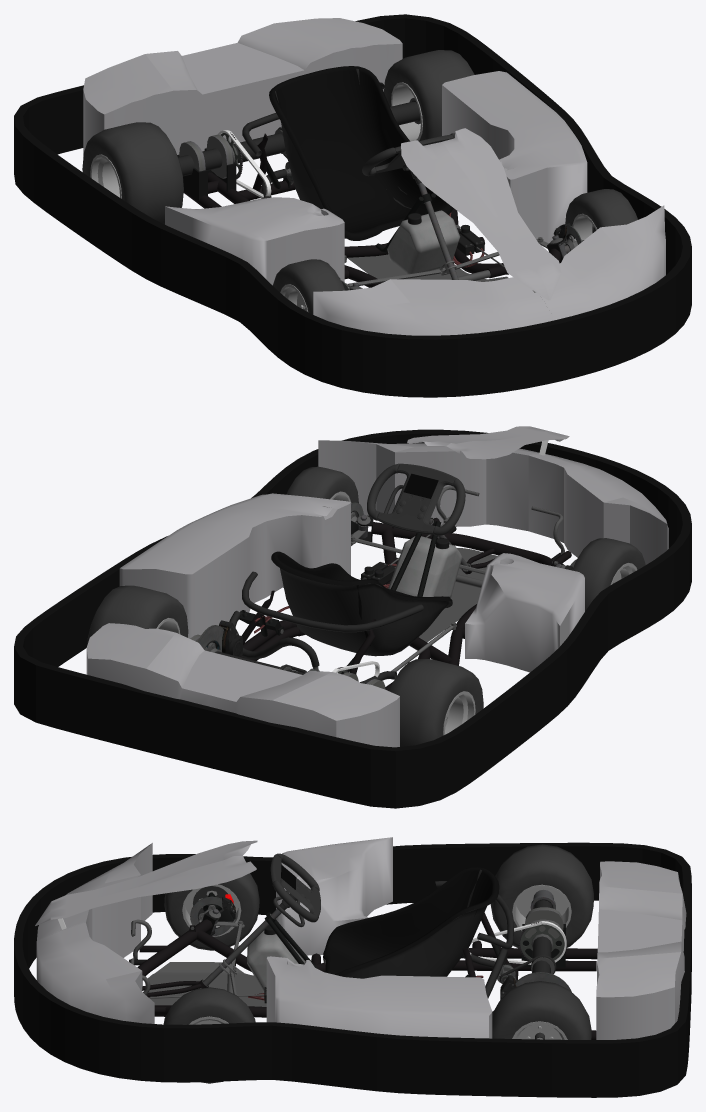
Rendered from kart_rental_bumper.glb.
3 renders of one model, top to bottom at view 1: azimuth 30°, elevation 25°; view 2: azimuth 150°, elevation 25°; view 3: azimuth 270°, elevation 25°, orthographic. The views are drawn at different scales.
Visible parts, largest first — view 1: Object_2, Object_3, Object_11, Object_7, Object_10, Object_8, Object_9, Object_4; view 2: Object_2, Object_3, Object_10, Object_11, Object_7, Object_9, Object_8, Object_12; view 3: Object_2, Object_3, Object_10, Object_7, Object_11, Object_8, Object_9, Object_4.
Boxes of the visible parts, <box> form: Object_2: <box>83,18,665,335</box>; Object_3: <box>14,14,691,397</box>; Object_11: <box>269,66,504,274</box>; Object_7: <box>82,50,637,314</box>; Object_10: <box>177,82,583,290</box>; Object_8: <box>90,82,597,311</box>; Object_9: <box>362,133,455,184</box>; Object_4: <box>218,130,271,198</box>; Object_2: <box>86,426,668,747</box>; Object_3: <box>14,429,691,808</box>; Object_10: <box>190,486,576,690</box>; Object_11: <box>254,517,462,656</box>; Object_7: <box>87,466,645,746</box>; Object_9: <box>367,463,465,535</box>; Object_8: <box>156,491,637,735</box>; Object_12: <box>403,473,438,498</box>; Object_2: <box>35,837,686,1039</box>; Object_3: <box>14,842,691,1097</box>; Object_10: <box>129,881,597,1039</box>; Object_7: <box>163,844,593,1083</box>; Object_11: <box>150,867,499,1003</box>; Object_8: <box>182,884,571,1039</box>; Object_9: <box>270,853,320,927</box>; Object_4: <box>468,921,566,964</box>.
Bounding box in the file's own units: 2.06 × 0.765 × 2.93.
12 materials, 2 textured.
